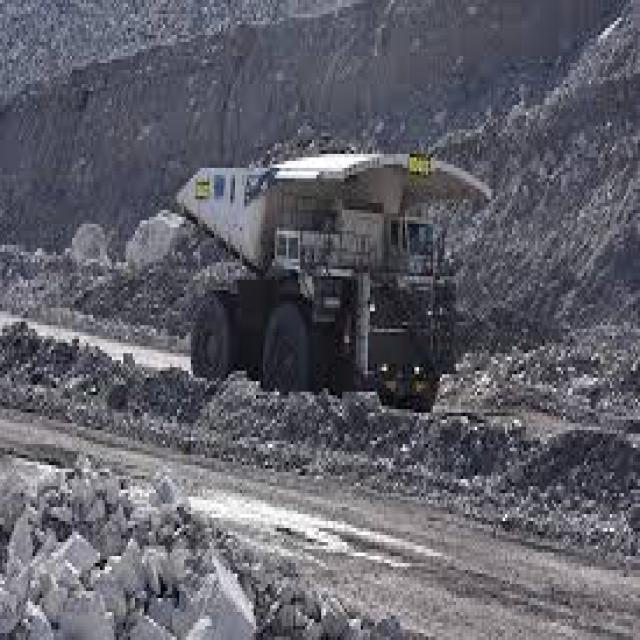dump_truck: (163, 122, 475, 427)
